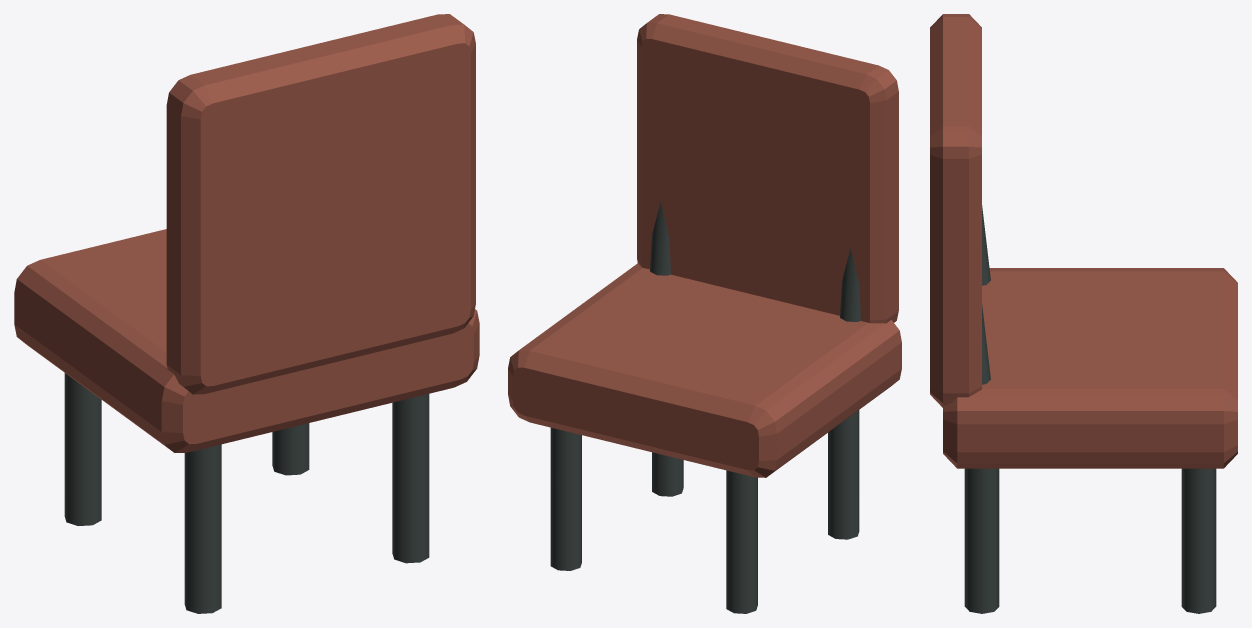
The model's file is chair.glb.
3 views of the same model, side by side, from view 1: azimuth 30°, elevation 25°; view 2: azimuth 150°, elevation 25°; view 3: azimuth 270°, elevation 25° (orthographic). The views are drawn at different scales.
Visible parts, largest first — view 1: chair; view 2: chair; view 3: chair.
Part boxes in pixels (x1,y1,x2,y2): chair: [14, 14, 479, 613]; chair: [508, 14, 901, 613]; chair: [930, 14, 1237, 613].
Size of the model in its own units: 0.765 by 1.24 by 0.71.
